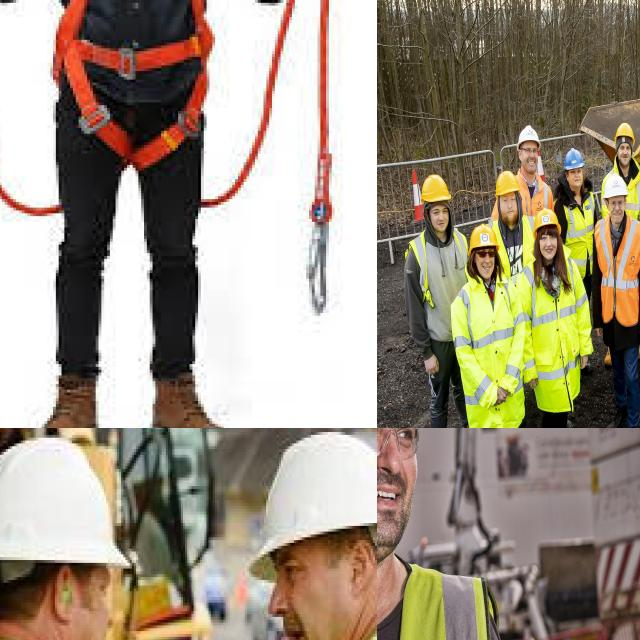Harness: (56, 0, 217, 169)
No_Ear-Protection: (343, 533, 376, 600)
No_Glasses: (266, 543, 316, 597)
face_nomask: (262, 557, 360, 640), (377, 428, 426, 549), (59, 551, 123, 640), (428, 206, 453, 244), (538, 231, 562, 264), (477, 249, 501, 280), (606, 193, 626, 224), (500, 198, 518, 229), (523, 144, 538, 178), (620, 142, 632, 170), (571, 165, 583, 193)
glasses: (377, 428, 421, 462), (477, 248, 498, 260), (610, 199, 625, 210), (523, 147, 539, 157)
hand_noglove: (424, 350, 439, 390)
head_helmet: (0, 440, 145, 571), (242, 440, 377, 548), (470, 224, 504, 254), (421, 172, 452, 202), (534, 207, 562, 235), (494, 170, 521, 197), (516, 125, 542, 152), (603, 173, 628, 199), (563, 147, 585, 171), (614, 122, 635, 147)
person: (0, 429, 191, 640), (377, 428, 525, 640), (242, 432, 377, 640), (403, 176, 467, 428), (451, 230, 529, 428), (524, 211, 591, 428), (594, 174, 640, 428), (555, 151, 598, 285), (490, 175, 535, 268), (600, 126, 640, 230), (517, 125, 554, 218)
shoes: (602, 404, 632, 428)
vest: (450, 277, 526, 400), (520, 259, 594, 383), (594, 219, 640, 330), (556, 186, 600, 267), (518, 170, 554, 219), (619, 167, 640, 223)
